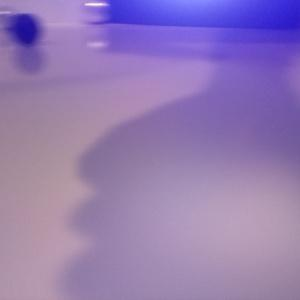alive_ball: (82, 1, 110, 24), (1, 6, 16, 29)
dead_ball: (9, 14, 40, 43)
